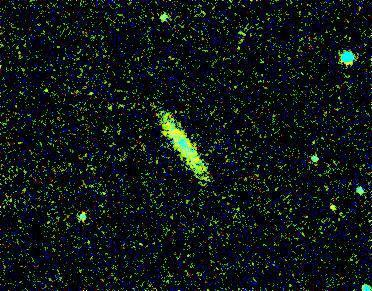star: (320, 197, 350, 227)
